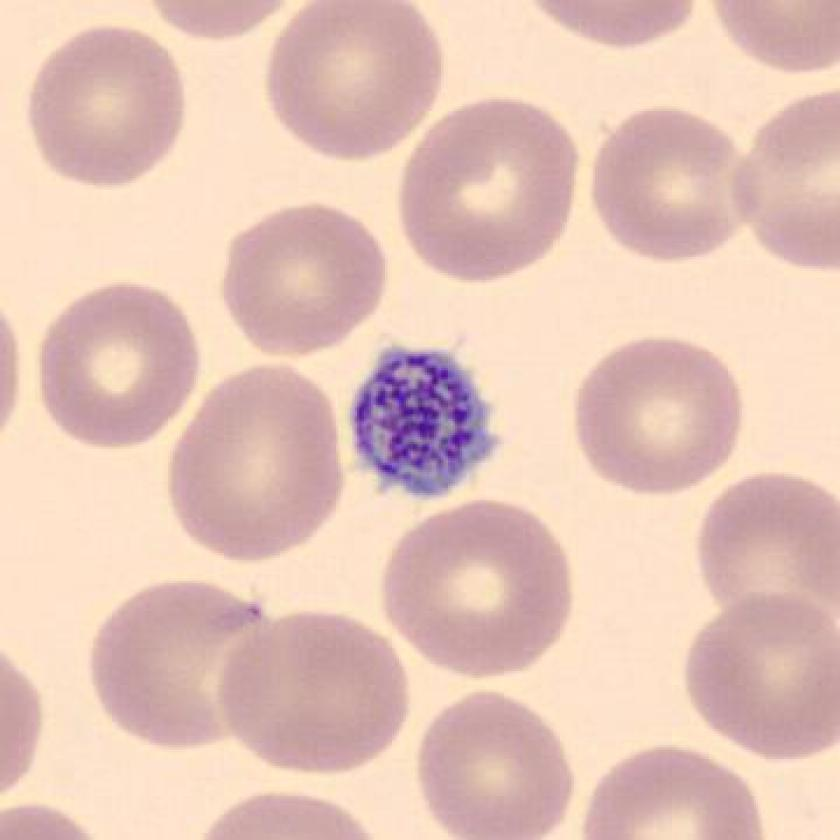platelets: (344, 334, 505, 508)
